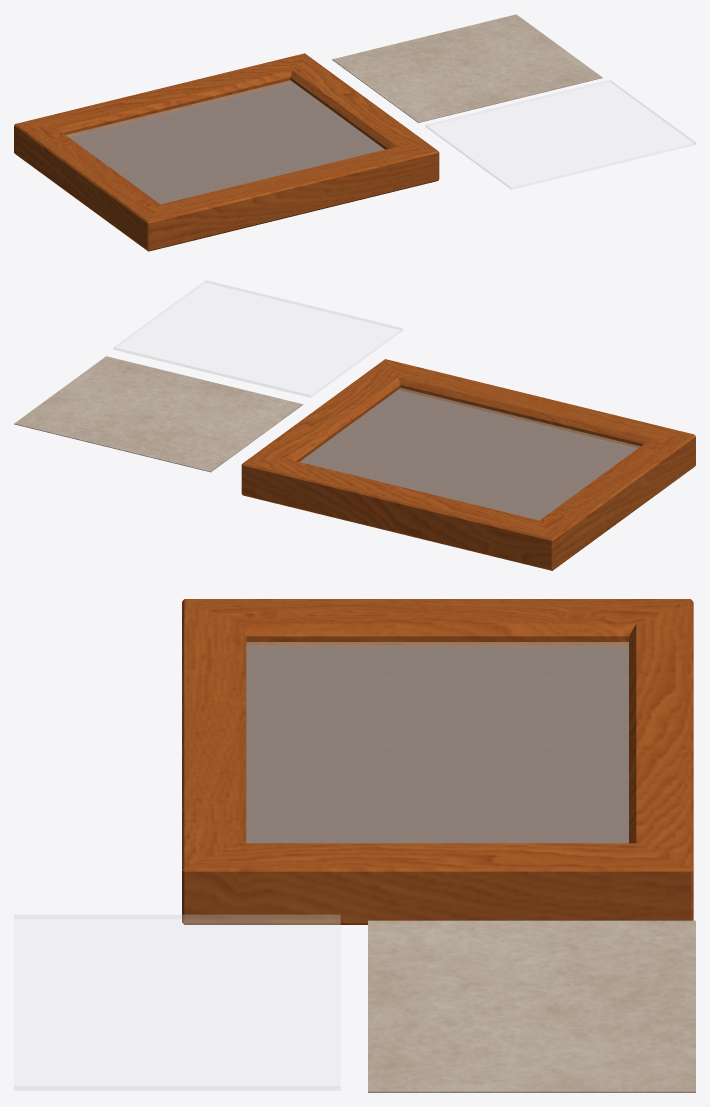
File: AAH_step05_opt.glb
3 renders of one model, top to bottom at view 1: azimuth 30°, elevation 25°; view 2: azimuth 150°, elevation 25°; view 3: azimuth 270°, elevation 25°, orthographic. The views are drawn at different scales.
Visible parts, largest first — view 1: contactprintingeasel.001, contacteasel_back.001, contacteasel_glass1.001, paper.002; view 2: contactprintingeasel.001, contacteasel_back.001, contacteasel_glass1.001, paper.002; view 3: contactprintingeasel.001, contacteasel_back.001, contacteasel_glass1.001, paper.002.
Part boxes in pixels (x1,y1,x2,y2): contactprintingeasel.001: (14,53,439,251); contacteasel_back.001: (69,82,384,204); contacteasel_glass1.001: (425,80,695,189); paper.002: (332,14,602,122); contactprintingeasel.001: (241,359,695,570); contacteasel_back.001: (300,390,637,520); contacteasel_glass1.001: (114,280,402,397); paper.002: (14,356,303,472); contactprintingeasel.001: (182,599,693,924); contacteasel_back.001: (246,645,628,843); contacteasel_glass1.001: (14,915,340,1090); paper.002: (368,920,695,1092).
Bounding box in the file's own units: 19.73 × 1.13 × 12.17.
Materials: 6 (5 with a texture image).
